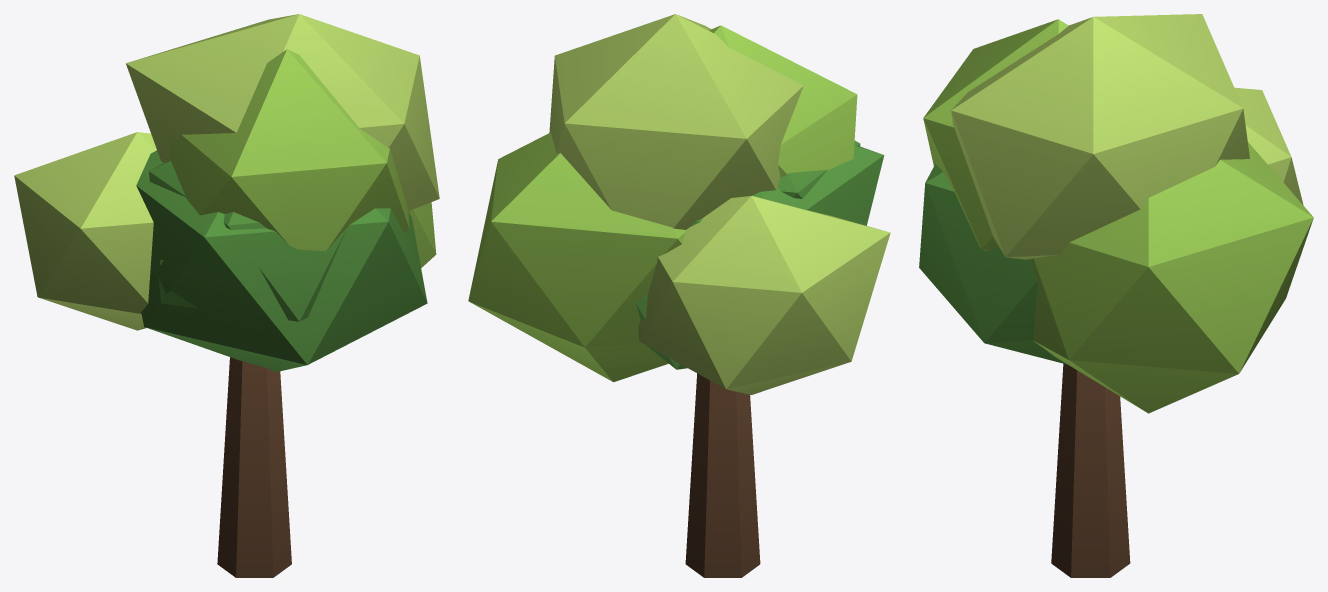
Rendered from tree_L.glb.
3 renders of one model, left to right at view 1: azimuth 30°, elevation 25°; view 2: azimuth 150°, elevation 25°; view 3: azimuth 270°, elevation 25°, orthographic. The views are drawn at different scales.
Parts seen in each view (by area): view 1: tree_L; view 2: tree_L; view 3: tree_L.
Part boxes in pixels (box(x1,y1,x2,y2)): tree_L: box(14, 14, 439, 577); tree_L: box(468, 14, 890, 577); tree_L: box(919, 14, 1313, 577).
Bounding box in the file's own units: 1.26 × 1.75 × 1.1.
1 material, 1 textured.
